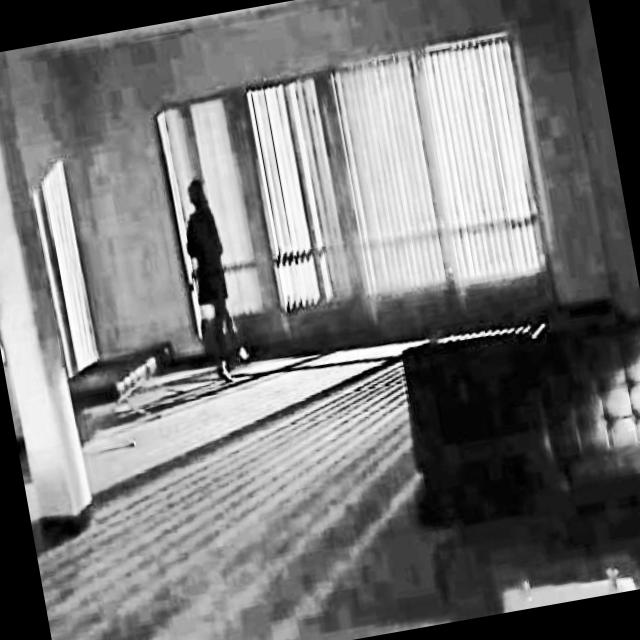Person: (172, 169, 254, 389)
